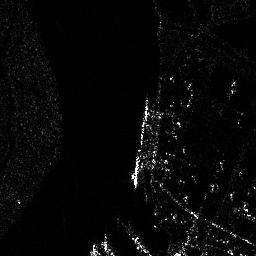ship: (137, 100, 150, 144), (132, 154, 141, 191)
